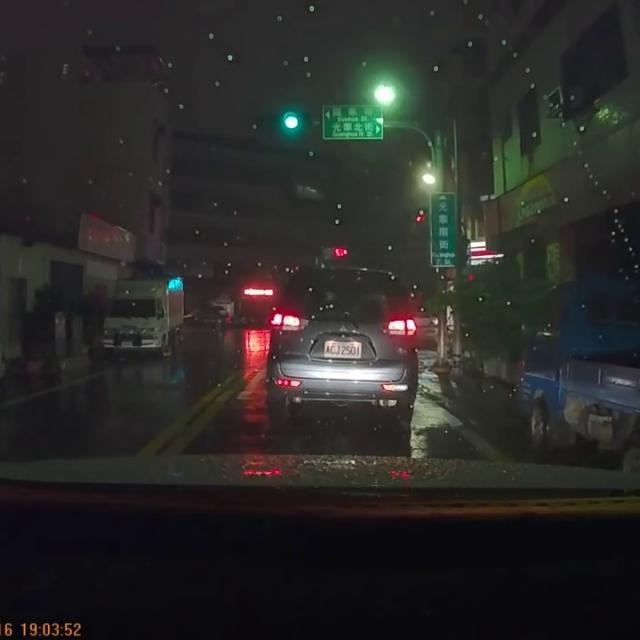Car: (261, 265, 418, 433)
